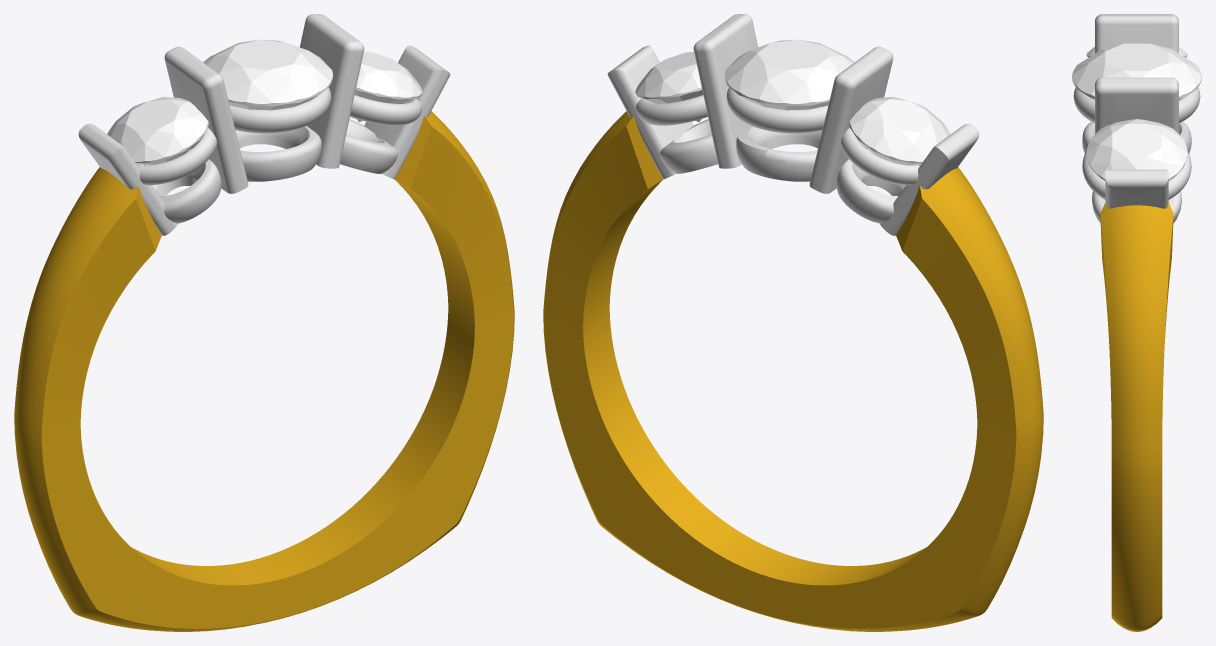
Rendered from CassiaK_webgi.glb.
3 views of the same model, side by side, from view 1: azimuth 30°, elevation 25°; view 2: azimuth 150°, elevation 25°; view 3: azimuth 270°, elevation 25° (orthographic). The views are drawn at different scales.
Parts seen in each view (by area): view 1: bASE, Prongs, cENTER_gEM, Cassia_K001, Cassia_K011; view 2: bASE, Prongs, cENTER_gEM, Cassia_K001, Cassia_K011; view 3: bASE, Prongs, Cassia_K011, cENTER_gEM.
Part boxes in pixels (bbox=[...]): bASE: bbox=[14, 111, 514, 631]; Prongs: bbox=[78, 14, 450, 235]; cENTER_gEM: bbox=[203, 39, 332, 110]; Cassia_K001: bbox=[107, 96, 208, 165]; Cassia_K011: bbox=[354, 51, 422, 122]; bASE: bbox=[543, 111, 1043, 631]; Prongs: bbox=[607, 14, 979, 235]; cENTER_gEM: bbox=[725, 39, 854, 110]; Cassia_K001: bbox=[849, 96, 950, 165]; Cassia_K011: bbox=[635, 51, 703, 122]; bASE: bbox=[1100, 203, 1173, 631]; Prongs: bbox=[1073, 14, 1200, 223]; Cassia_K011: bbox=[1086, 119, 1187, 180]; cENTER_gEM: bbox=[1072, 43, 1201, 100].
Size of the model in its own units: 2.63 by 2.94 by 0.6362.
